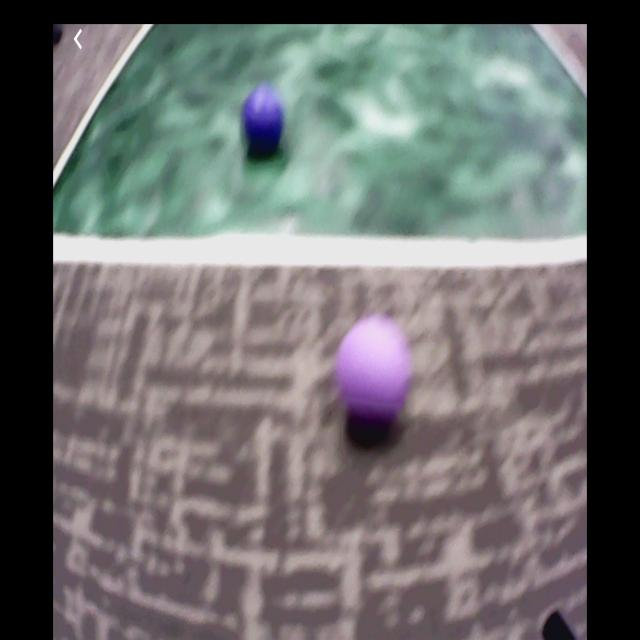ball: (340, 319, 410, 419), (244, 89, 283, 148)
